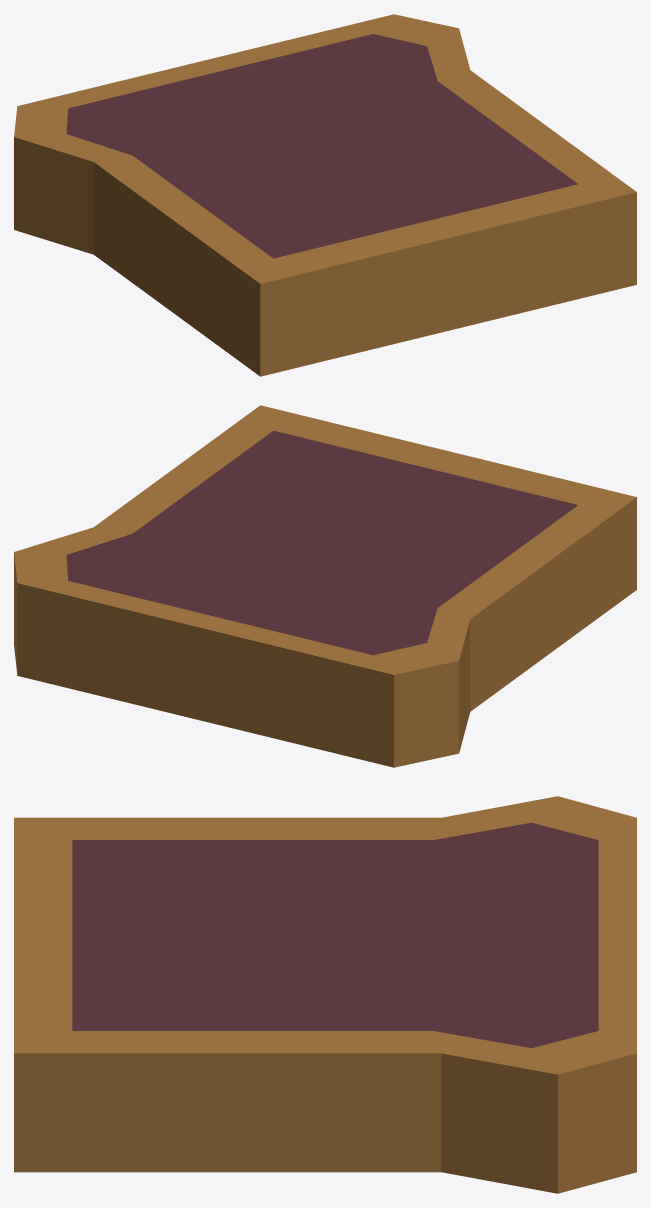
The model's file is food-toast-toasted.glb.
3 views of the same model, one above another, from view 1: azimuth 30°, elevation 25°; view 2: azimuth 150°, elevation 25°; view 3: azimuth 270°, elevation 25° (orthographic). The views are drawn at different scales.
Parts seen in each view (by area): view 1: toast-toasted; view 2: toast-toasted; view 3: toast-toasted.
Part boxes in pixels (x1,y1,x2,y2): toast-toasted: (14,14,636,376); toast-toasted: (14,405,636,767); toast-toasted: (14,796,636,1193).
Size of the model in its own units: 0.1326 by 0.0265 by 0.1254.
